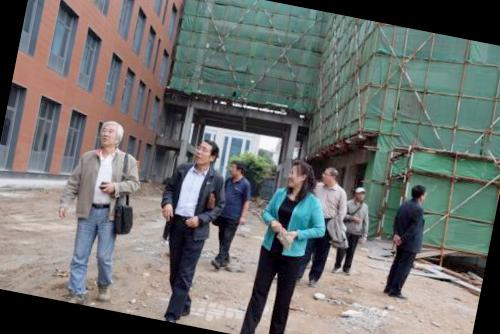no_helmet: (282, 155, 316, 198), (94, 115, 128, 156), (191, 135, 224, 172), (319, 162, 343, 190), (408, 180, 431, 208), (225, 157, 246, 180), (354, 184, 368, 204)
